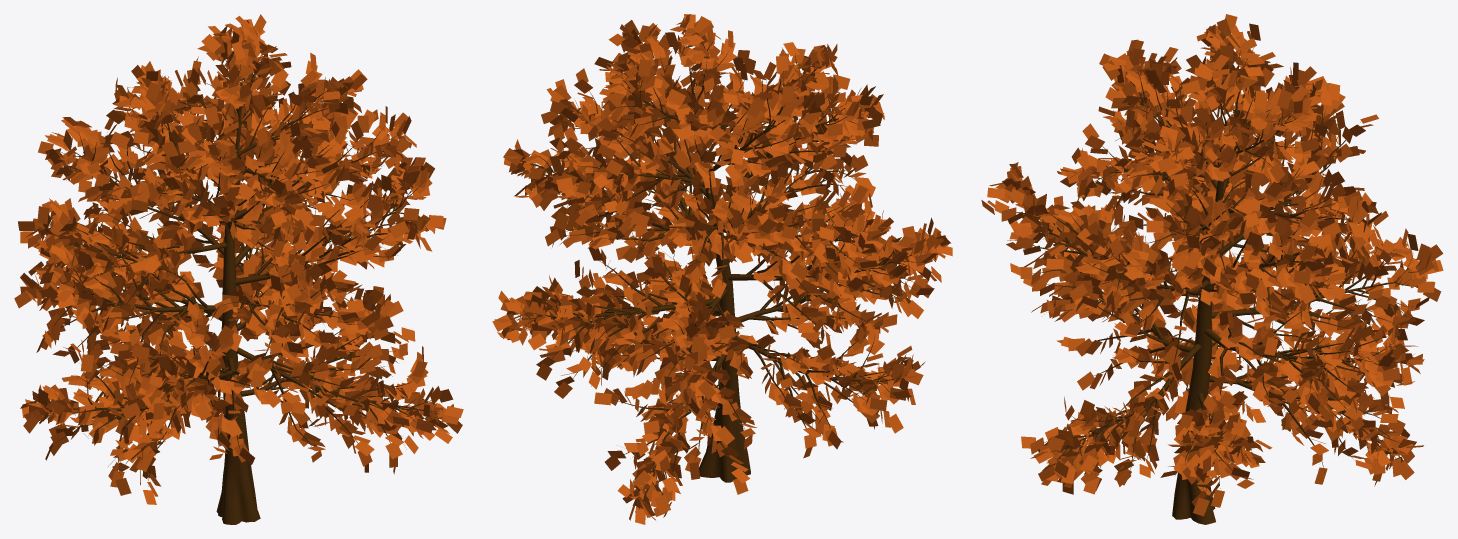
The model's file is Baum3 Neu.FBX.
3 renders of one model, left to right at view 1: azimuth 30°, elevation 25°; view 2: azimuth 150°, elevation 25°; view 3: azimuth 270°, elevation 25°, orthographic. The views are drawn at different scales.
Visible parts, largest first — view 1: Foliage004; view 2: Foliage004; view 3: Foliage004.
Boxes of the visible parts, x1,y1,x2,y2 form: Foliage004: (14, 14, 463, 524); Foliage004: (492, 14, 952, 524); Foliage004: (981, 14, 1443, 524).
Bounding box in the file's own units: 939 × 1076 × 934.
